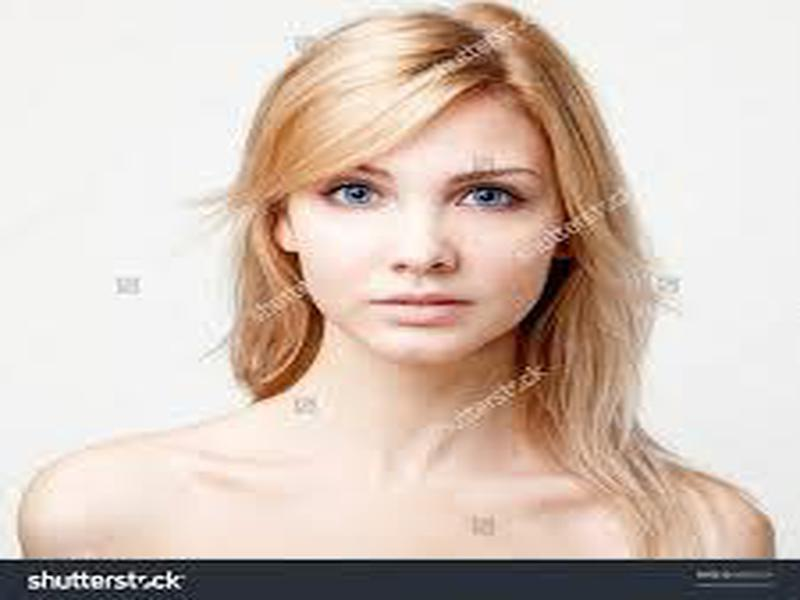without_mask: (287, 97, 553, 367)
